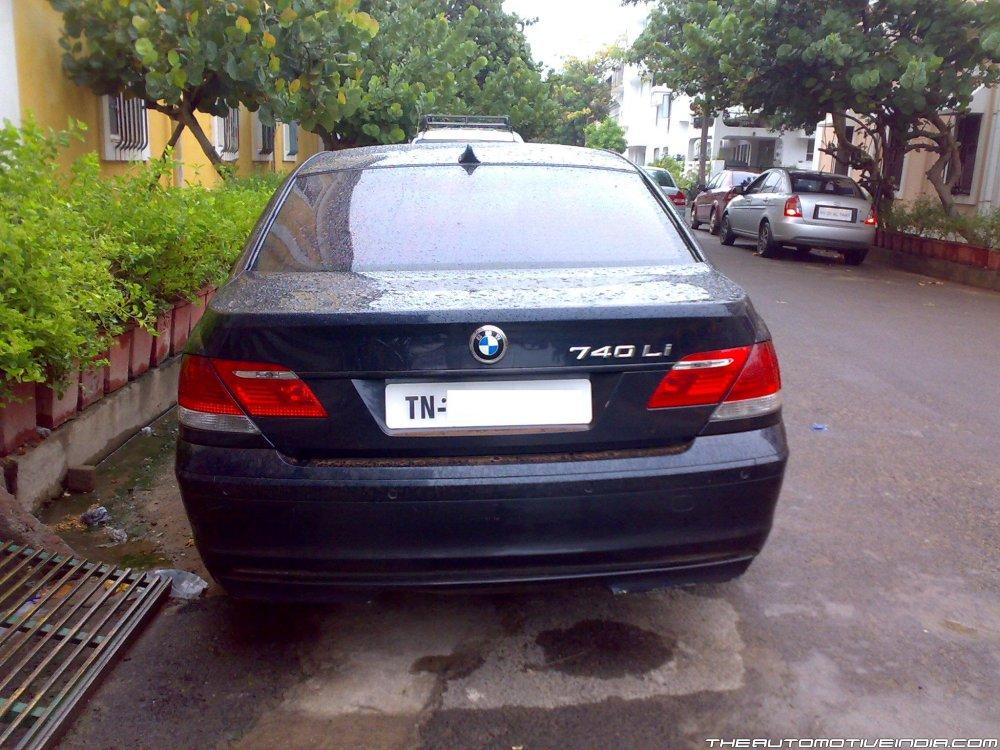T: (401, 391, 420, 422)
